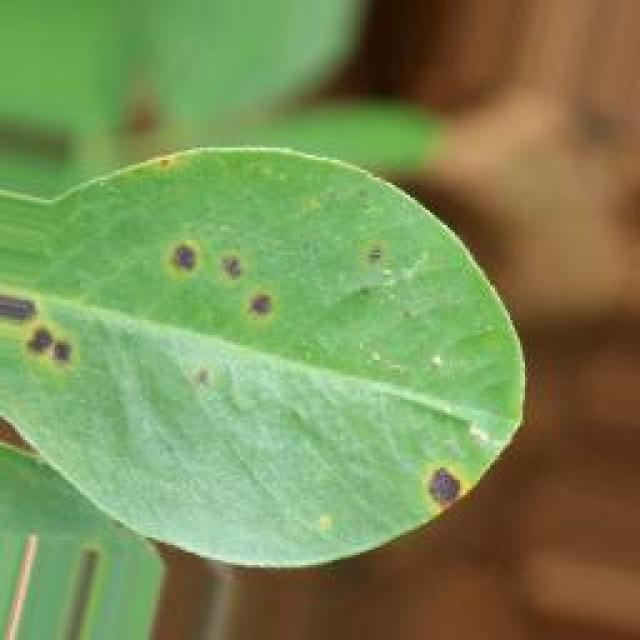Sigatoka: (160, 218, 281, 353), (0, 274, 83, 388), (413, 456, 485, 530), (148, 132, 210, 203), (346, 242, 405, 287), (177, 349, 224, 400)
